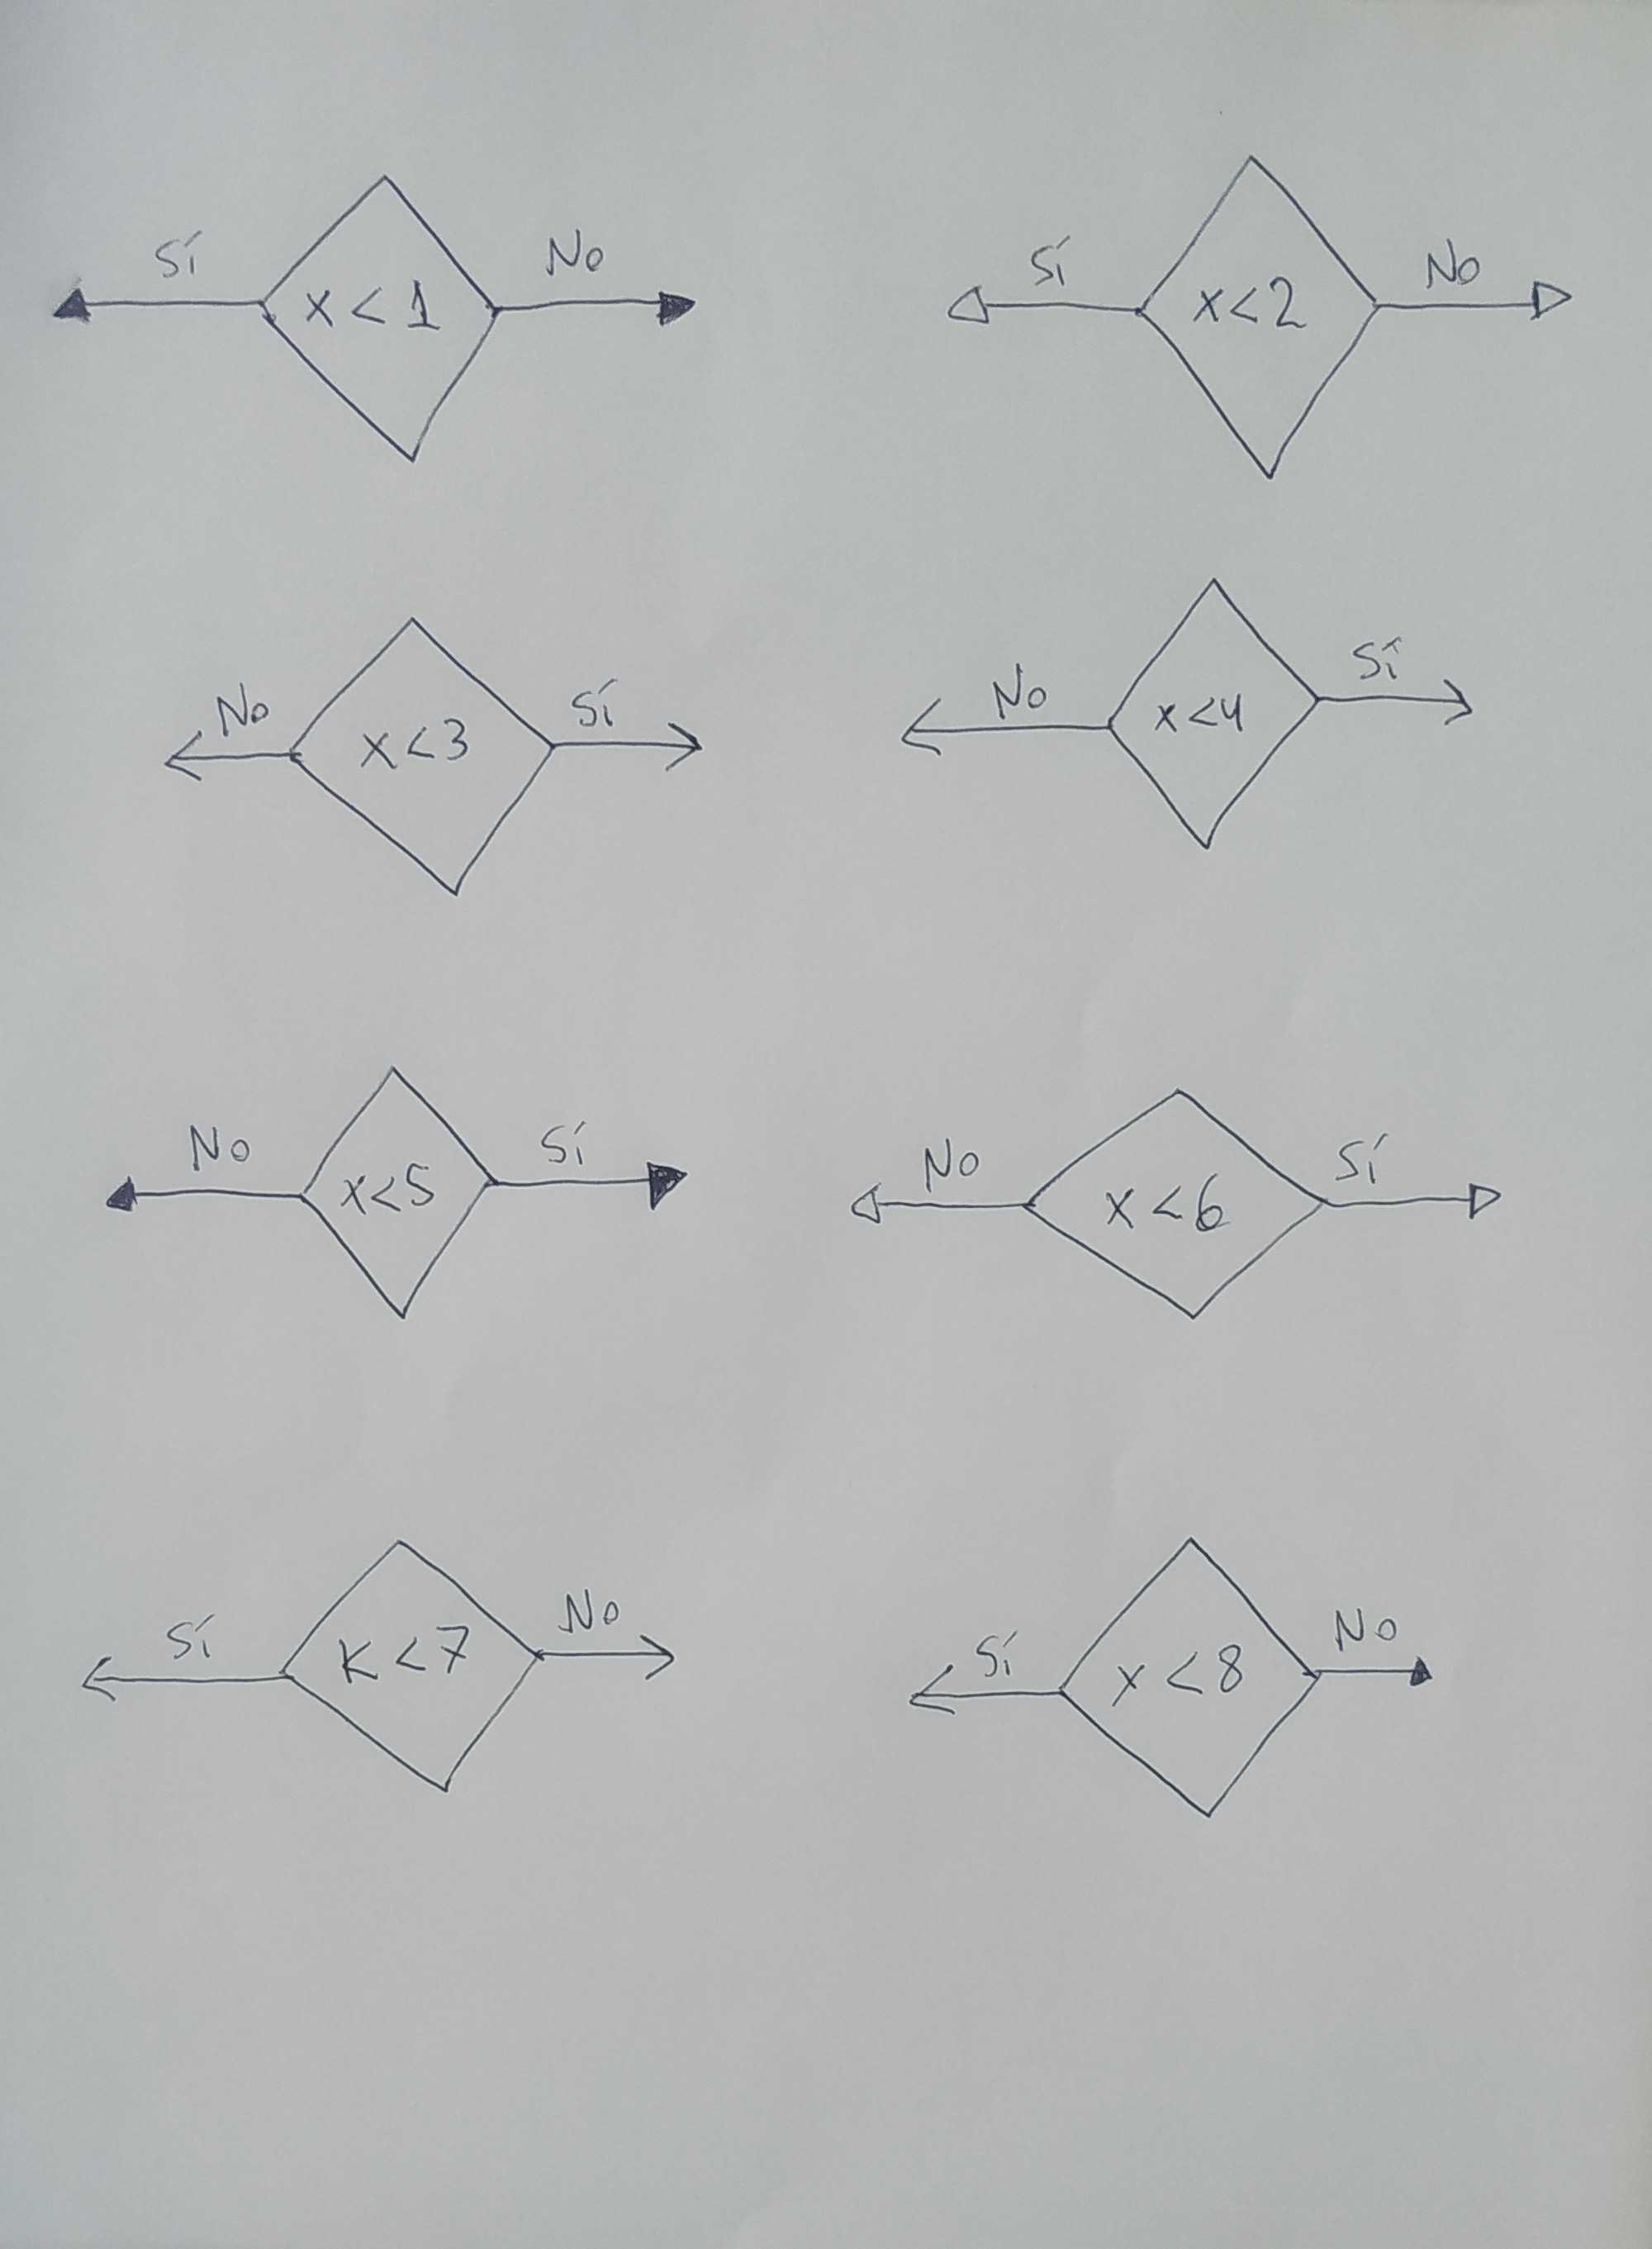arrow_line_left: (891, 686, 1119, 763), (940, 269, 1149, 344), (96, 1168, 306, 1229), (75, 1648, 290, 1706), (840, 1173, 1030, 1235), (45, 276, 264, 328), (896, 1659, 1067, 1725), (152, 721, 293, 791)
arrow_line_right: (489, 1147, 695, 1217), (1376, 271, 1580, 332), (1315, 665, 1483, 739), (1322, 1170, 1511, 1233), (496, 283, 702, 335), (552, 712, 712, 779), (534, 1626, 685, 1690), (1310, 1638, 1442, 1702)
decision: (285, 608, 562, 917), (1133, 147, 1383, 484), (1022, 1077, 1338, 1336), (1053, 1528, 1324, 1819), (257, 166, 503, 473), (279, 1530, 543, 1802), (1100, 567, 1327, 861), (295, 1053, 508, 1329)
